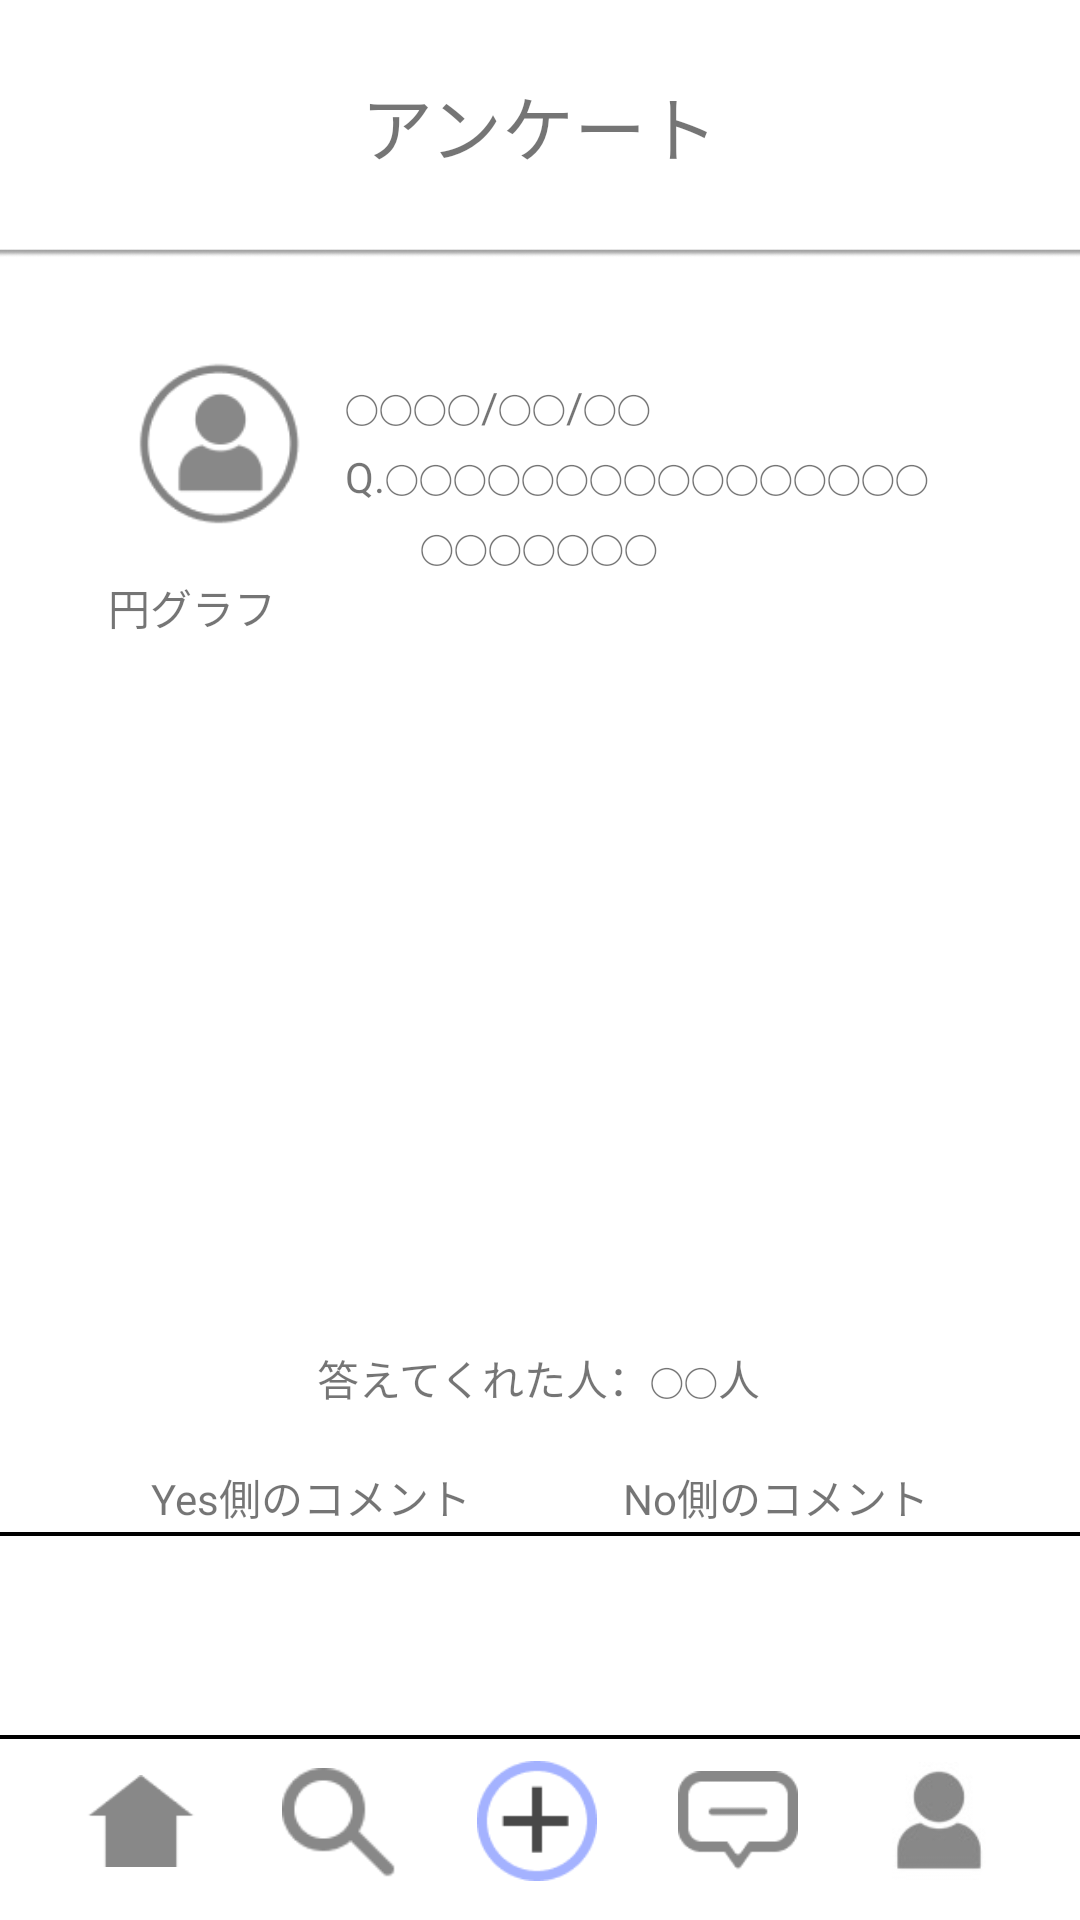

Named icons in this screenshot (1080w x 1920h) and their centers, point (x, y):
home: point (141, 1821)
mypage: point (939, 1820)
post: point (537, 1821)
search: point (338, 1822)
